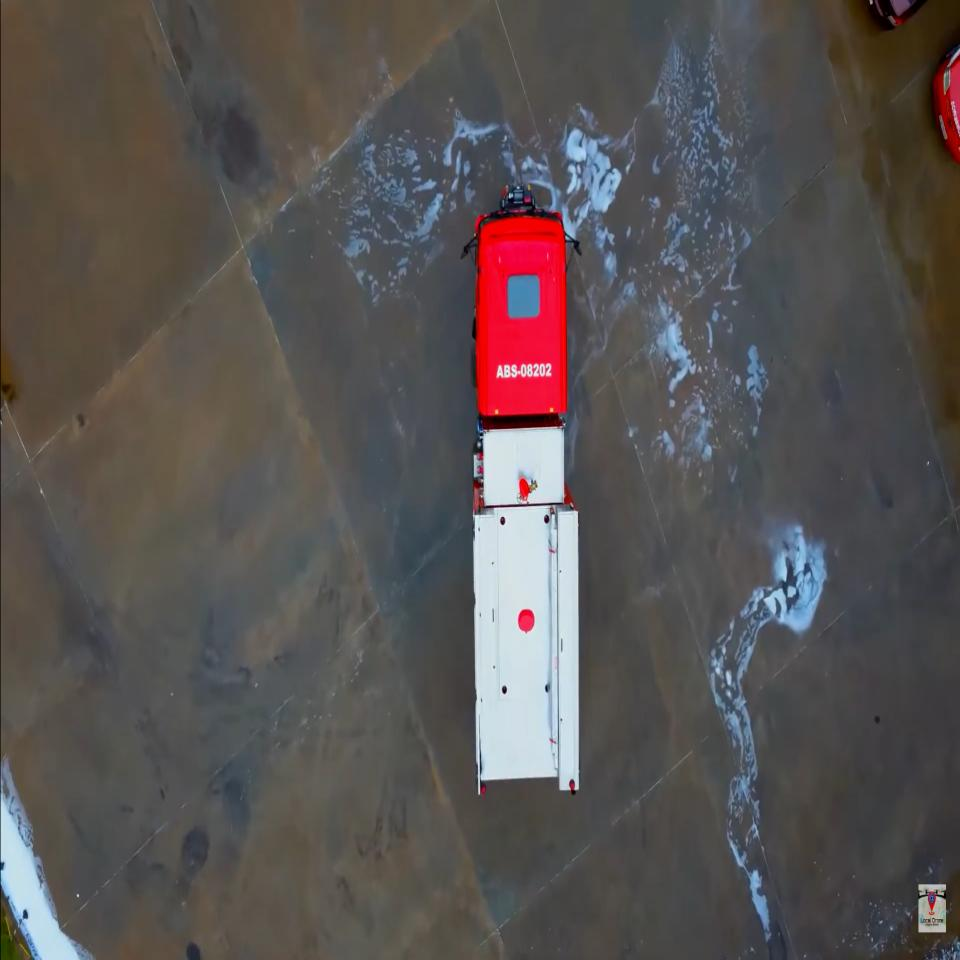bombeiro: (459, 179, 584, 799)
